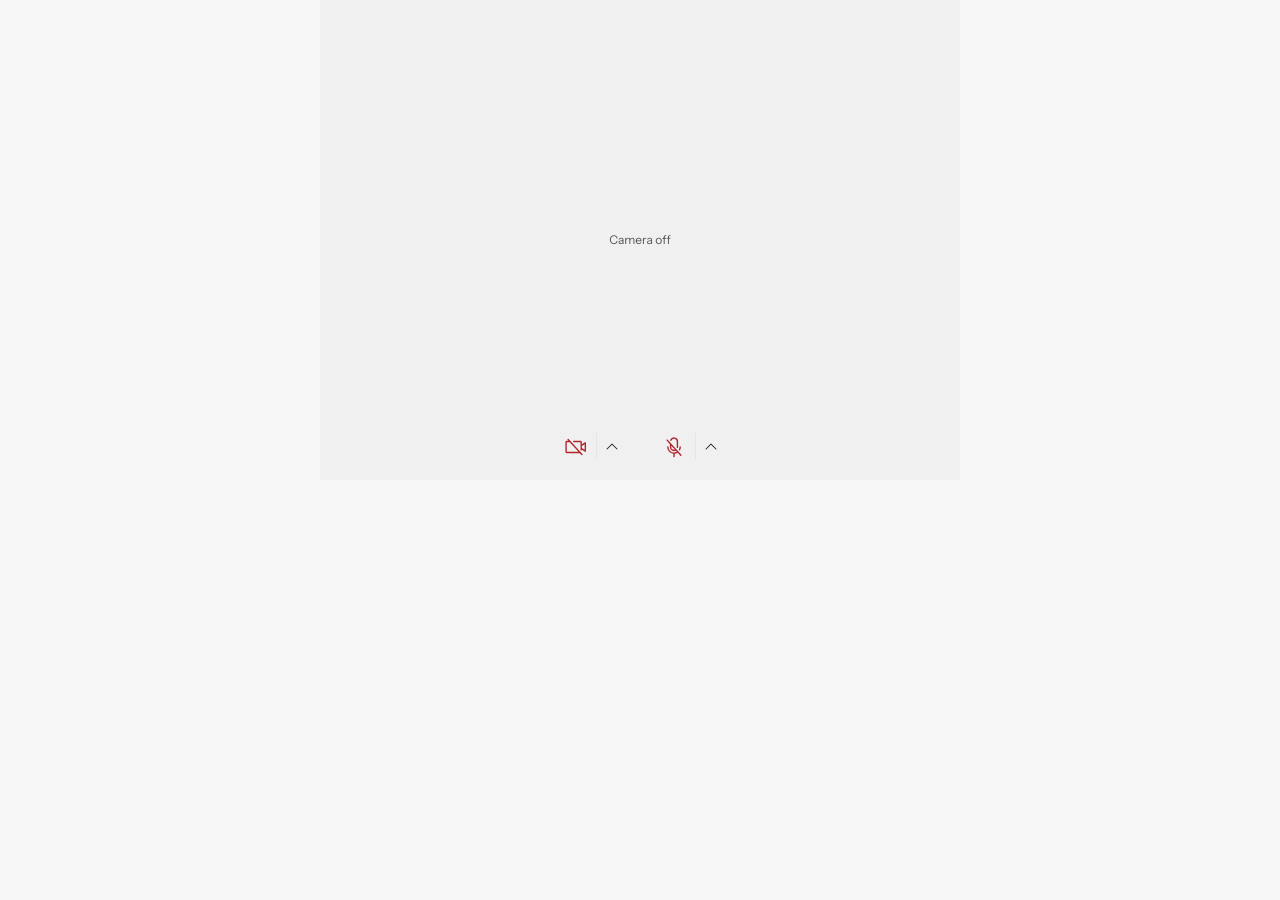
Test case: media controls acceptance › reports a failed speaker choice but not a dismissed picker
Click the button named "Open audio settings": [712, 447] box [696,425,727,469]
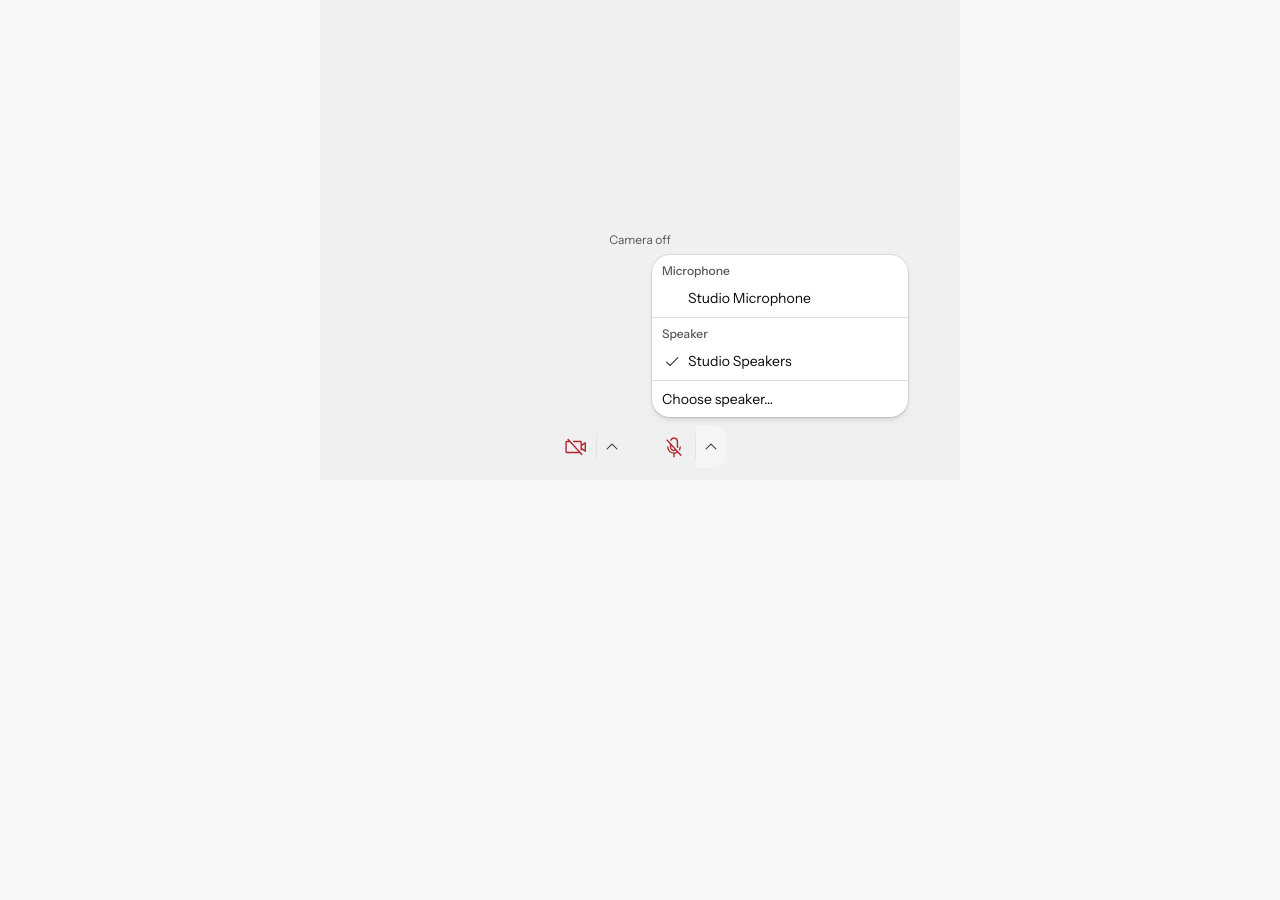
Click the menu item "Choose speaker…": [718, 399] box [662,390,773,408]
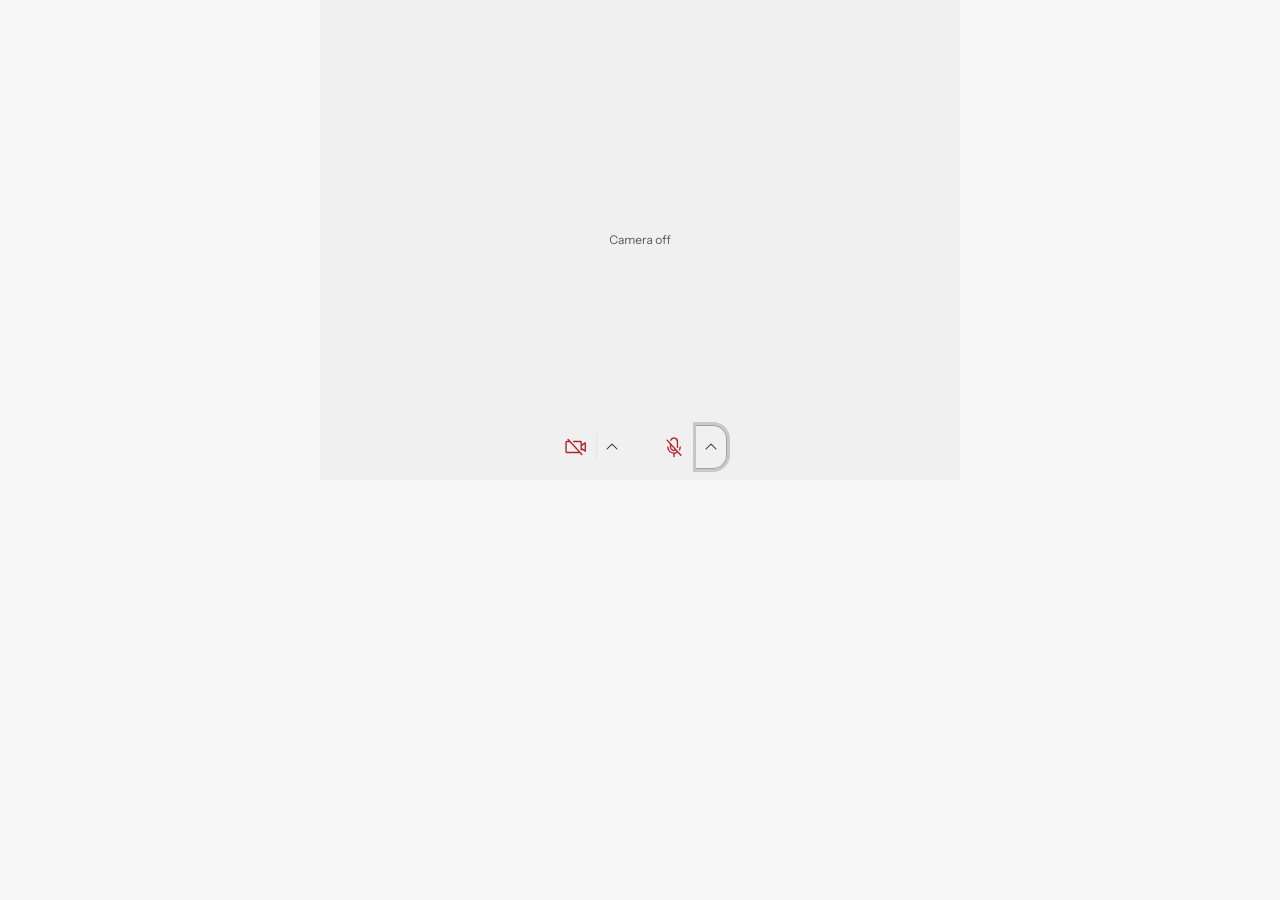
Check: the menu is gone
Click the button named "Open audio settings": [712, 447] box [696,425,727,469]
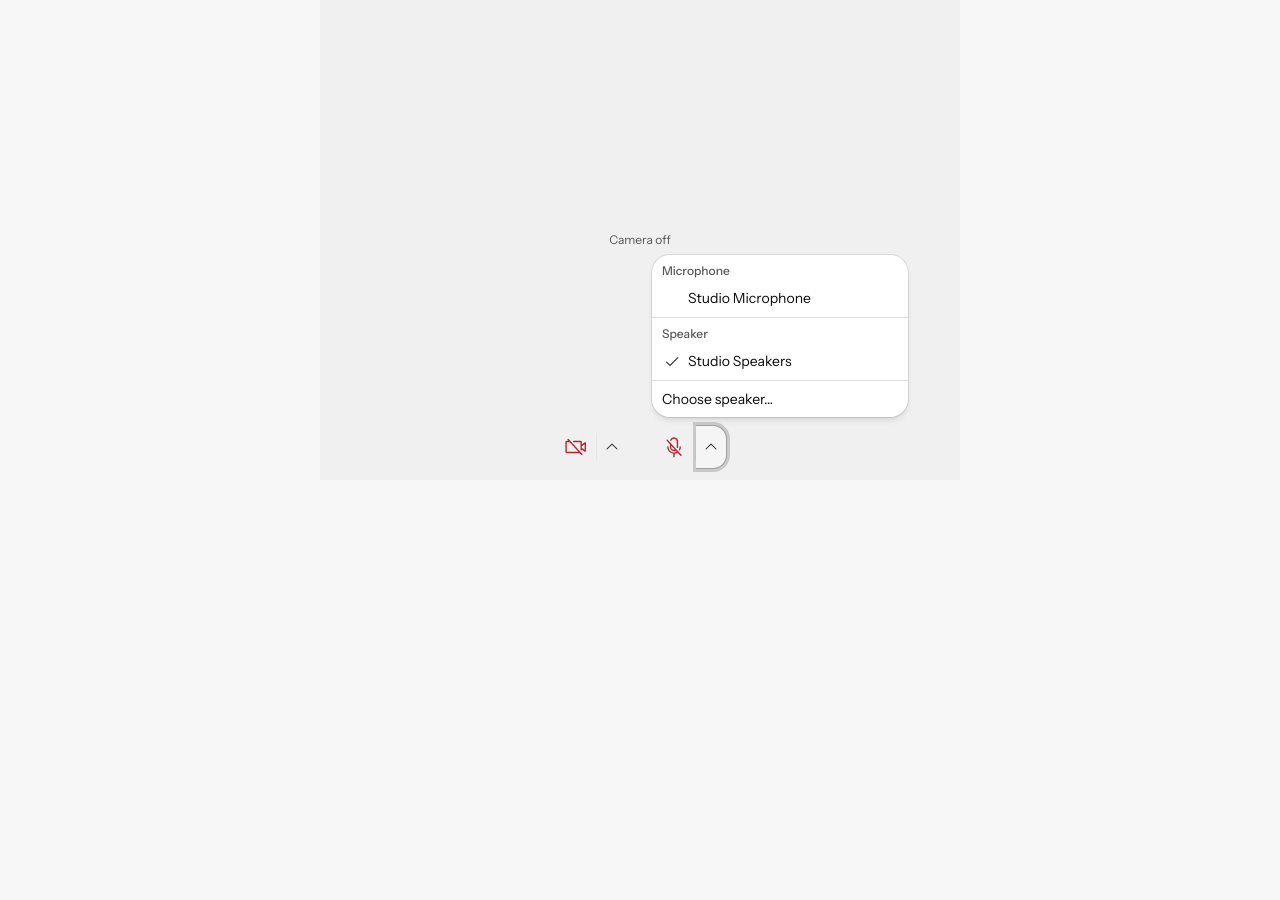
Click the menu item "Choose speaker…": [718, 399] box [662,390,773,408]
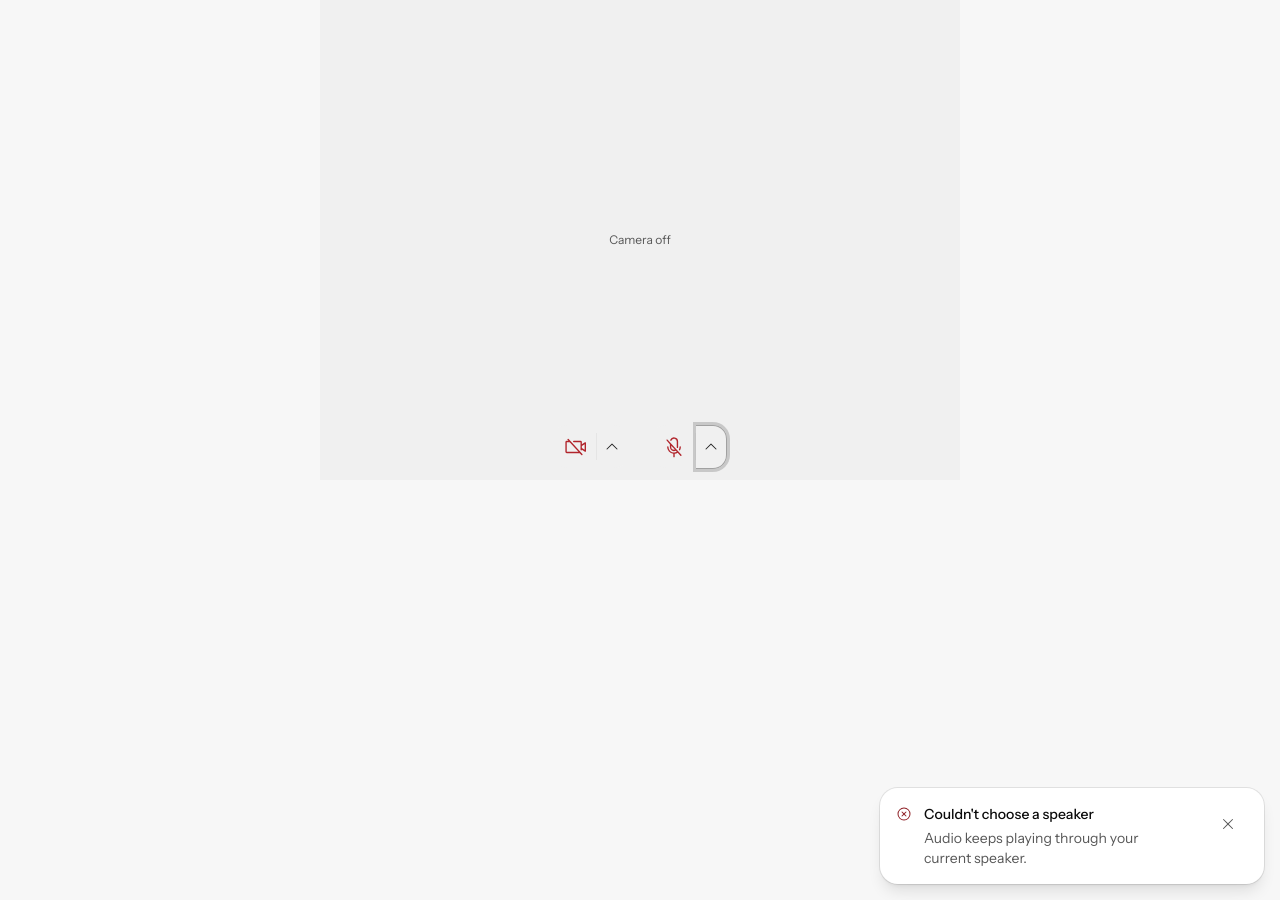
Check: the menu is gone
